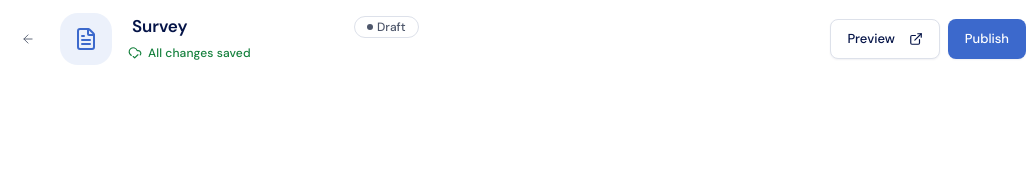
it: BuilderHeader › an emptied title is reverted, not committed
Step 1. Clear the field named "Form name" → (236, 27), box x1=128 y1=12 x2=344 y2=42
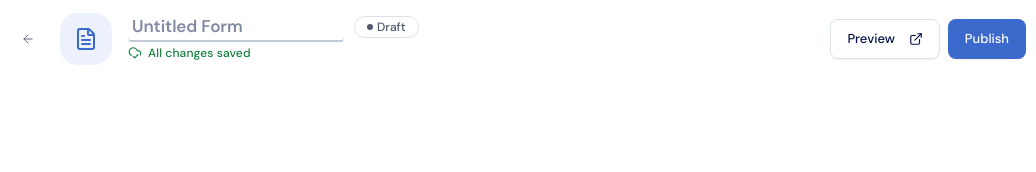
Step 2. Press Tab
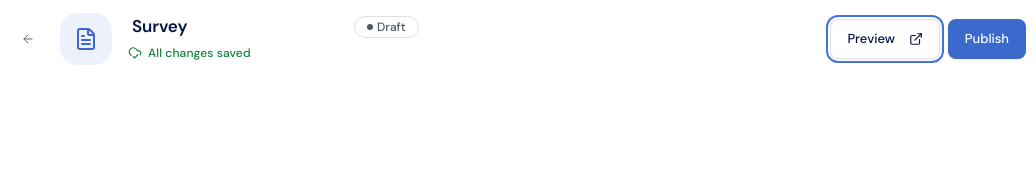
Now the field named "Form name" holds "Survey", box x1=128 y1=12 x2=344 y2=42
